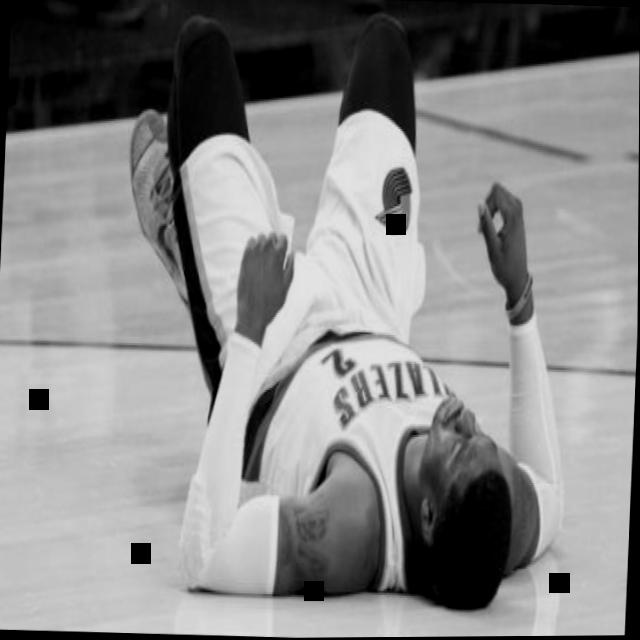Fall-Detected: (82, 0, 624, 639)
